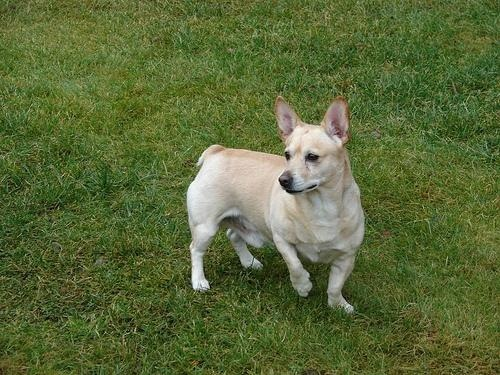dog: (186, 96, 365, 312)
